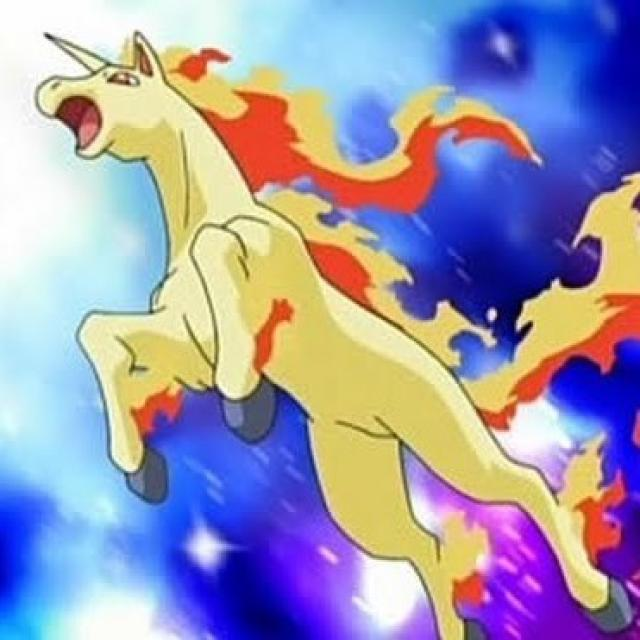Rapidash: (70, 22, 526, 550)
